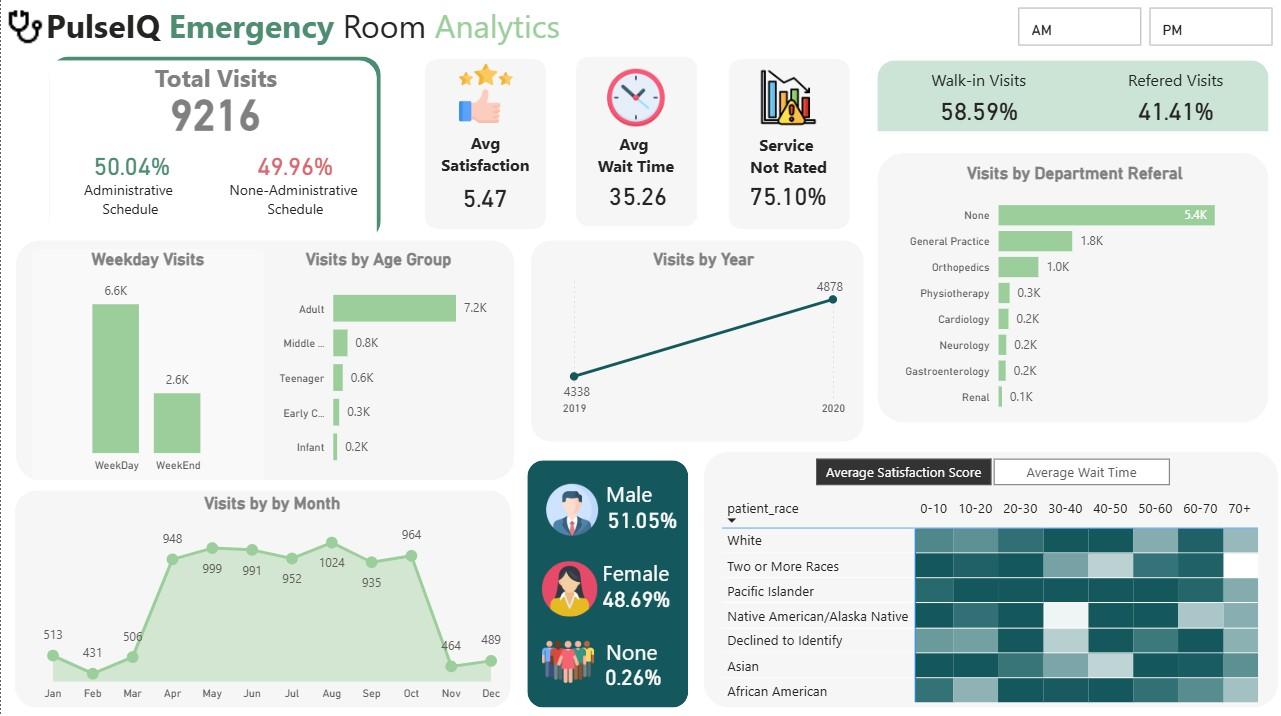

The page's visual inventory and layout, read from the dashboard file:
{"tool":"powerbi","page":{"name":"Page 1","canvas":[1280,720],"ordinal":0},"visuals":[{"type":"shape","box":[48.8,57.5,331,183],"z":0},{"type":"shape","box":[13.8,491.2,496.2,217.5],"z":1000},{"type":"shape","box":[15,241.2,498.8,240],"z":2000},{"type":"shape","title":"xzcz","box":[530,241.4,332.9,201.4],"z":3000},{"type":"shape","box":[875.7,154.3,391.4,270],"z":4000},{"type":"shape","box":[575,57.5,121.4,170],"z":5000,"group":"g3"},{"type":"shape","box":[423.8,60,121.4,170],"z":5000,"group":"g1"},{"type":"shape","box":[727.7,60,121.4,170],"z":5000,"group":"g2"},{"type":"shape","box":[702.5,452.5,575,256.2],"z":5000},{"type":"shape","box":[526.2,461.2,161.1,247.5],"z":5000,"group":"g7"},{"type":"shape","box":[875.7,61.4,391.4,71.4],"z":6000},{"type":"pivotTable","fields":{"Values":["DAX operations.Average Satisfaction Score"],"Rows":["Hospitaldata.patient_race"],"Columns":["Hospitaldata.age group "]},"box":[716.2,491.2,561.2,217.5],"z":7000},{"type":"slicer","fields":{"Values":["Parameter.Parameter"]},"box":[788.8,452.5,403.8,38.8],"z":8000},{"type":"columnChart","title":"Weekday Visits","fields":{"Y":["CountNonNull(Hospitaldata.patient_id)"],"Category":["date.Weekstatus"]},"box":[31.2,250,231.2,231.2],"z":9000},{"type":"cardVisual","fields":{"Data":["DAX operations.Average Satisfaction Score"]},"box":[425.4,161.2,117.5,53.8],"z":10000,"group":"g1"},{"type":"cardVisual","fields":{"Data":["DAX operations.Average Wait Time"]},"box":[576.2,163.1,121.2,57.5],"z":10000,"group":"g3"},{"type":"cardVisual","fields":{"Data":["DAX operations.Average Non Rated"]},"box":[726,163.8,121.2,55],"z":10000,"group":"g2"},{"type":"clusteredBarChart","title":"Visits by Age Group","fields":{"Category":["Hospitaldata.age_status"],"Y":["CountNonNull(Hospitaldata.patient_id)"]},"box":[262.5,250,230,231.2],"z":10000},{"type":"lineChart","fields":{"Category":["date.MonthName"],"Y":["CountNonNull(Hospitaldata.patient_id)"]},"box":[31.2,493.8,480,215],"z":11000},{"type":"lineChart","fields":{"Category":["date.Year"],"Y":["CountNonNull(Hospitaldata.patient_id)"]},"box":[555.7,250,292.9,174.3],"z":12000},{"type":"clusteredBarChart","title":"Visits by Department Referal","fields":{"Y":["CountNonNull(Hospitaldata.patient_id)"],"Category":["Hospitaldata.department_referral"]},"box":[898.8,163.8,350,260],"z":13000},{"type":"cardVisual","fields":{"Data":["DAX operations.Walkin Patientss","DAX operations.Refered Patients"]},"box":[875.7,52.9,401.4,78.6],"z":14000},{"type":"advancedSlicerVisual","fields":{"Values":["Hospitaldata.AMPMstatus"]},"box":[1012.5,3.8,265,48.8],"z":15000},{"type":"shape","box":[48.6,61.4,327.1,180],"z":16000},{"type":"cardVisual","fields":{"Data":["DAX operations.Administrative Schedule"]},"box":[48.8,132.5,163.8,63.8],"z":17000},{"type":"cardVisual","fields":{"Data":["DAX operations.Unadministrative schedule"]},"box":[212.5,132.5,163.8,61.2],"z":18000},{"type":"textbox","box":[40,0,600,52.5],"z":19000},{"type":"image","box":[0,2.5,48.8,50],"z":20000},{"type":"group","id":"g1","title":"Group 5","box":[423.8,60,121.2,170],"z":21000},{"type":"cardVisual","fields":{"Data":["DAX operations.Male"]},"box":[587.6,492,107.4,50.2],"z":21000,"group":"g8"},{"type":"cardVisual","fields":{"Data":["DAX operations.Female"]},"box":[578.4,570.1,113.6,52.3],"z":21000,"group":"g5"},{"type":"group","id":"g2","title":"Group 5","box":[726,60,123.2,170],"z":22000},{"type":"cardVisual","fields":{"Data":["DAX operations.None"]},"box":[570.9,648.4,122.4,51.7],"z":22000,"group":"g6"},{"type":"group","id":"g3","title":"Group 5","box":[575,57.5,122.5,170],"z":23000},{"type":"group","id":"g4","title":"Group 2","box":[538.7,474.4,156.3,67.9],"z":23000,"group":"g7"},{"type":"image","box":[745,65,85,67.5],"z":24000},{"type":"group","id":"g5","title":"Group 3","box":[535.9,554.2,156.1,68.2],"z":24000,"group":"g7"},{"type":"image","box":[592.5,65,85,67.5],"z":25000},{"type":"group","id":"g6","title":"Group 4","box":[535.9,631.9,157.4,68.2],"z":25000,"group":"g7"},{"type":"group","id":"g7","title":"Group 6","box":[526.2,461.2,168.8,247.5],"z":26000},{"type":"cardVisual","fields":{"Data":["DAX operations.Total Patients"]},"box":[88.8,52.5,251.2,118.8],"z":27000},{"type":"textbox","box":[141.2,57.5,147.5,55],"z":28000},{"type":"textbox","box":[71.2,176.2,112.5,53.8],"z":29000},{"type":"textbox","box":[213.8,176.2,157.5,53.8],"z":30000},{"type":"image","box":[442.9,60,85,68.8],"z":32000,"group":"g1"},{"type":"image","box":[535.9,557.6,64.9,64.7],"z":34000,"group":"g5"},{"type":"textbox","box":[425.4,127.5,118.8,66.2],"z":34001,"group":"g1"},{"type":"textbox","box":[582.2,128.1,105,67.5],"z":34001,"group":"g3"},{"type":"textbox","box":[735,130,105,63.8],"z":34001,"group":"g2"},{"type":"image","box":[538.7,479.9,64.9,62.2],"z":35000,"group":"g4"},{"type":"image","box":[535.9,635.4,61.9,62.5],"z":35000,"group":"g6"},{"type":"textbox","box":[595.8,554.2,86.2,41.1],"z":36000,"group":"g5"},{"type":"textbox","box":[599.6,631.9,81.2,39.1],"z":37000,"group":"g6"},{"type":"textbox","box":[600.7,474.4,86.2,39.5],"z":38000,"group":"g8"},{"type":"group","id":"g8","title":"Group 1","box":[587.6,474.4,107.4,67.9],"z":39002,"group":"g4"}]}

Visuals, with their boxes in screenshot pixels (x1, y1, x2, y2), scaled from the page's 1280x720 canvas onto the 1281x716 screenshot:
shape: select_region(49, 57, 380, 239)
shape: select_region(14, 488, 510, 705)
shape: select_region(15, 240, 514, 479)
"xzcz" shape: select_region(530, 240, 864, 440)
shape: select_region(876, 153, 1268, 422)
shape: select_region(575, 57, 697, 226)
shape: select_region(424, 60, 546, 229)
shape: select_region(728, 60, 850, 229)
shape: select_region(703, 450, 1278, 705)
shape: select_region(527, 459, 688, 705)
shape: select_region(876, 61, 1268, 132)
pivotTable - DAX operations.Average Satisfaction Score x Hospitaldata.patient_race: select_region(717, 488, 1278, 705)
slicer - Parameter.Parameter: select_region(789, 450, 1194, 489)
"Weekday Visits" columnChart: select_region(31, 249, 263, 479)
cardVisual - DAX operations.Average Satisfaction Score: select_region(426, 160, 543, 214)
cardVisual - DAX operations.Average Wait Time: select_region(577, 162, 698, 219)
cardVisual - DAX operations.Average Non Rated: select_region(727, 163, 848, 218)
"Visits by Age Group" clusteredBarChart: select_region(263, 249, 493, 479)
lineChart - date.MonthName x CountNonNull(Hospitaldata.patient_id): select_region(31, 491, 512, 705)
lineChart - date.Year x CountNonNull(Hospitaldata.patient_id): select_region(556, 249, 849, 422)
"Visits by Department Referal" clusteredBarChart: select_region(900, 163, 1250, 421)
cardVisual - DAX operations.Walkin Patientss x DAX operations.Refered Patients: select_region(876, 53, 1278, 131)
advancedSlicerVisual - Hospitaldata.AMPMstatus: select_region(1013, 4, 1278, 52)
shape: select_region(49, 61, 376, 240)
cardVisual - DAX operations.Administrative Schedule: select_region(49, 132, 213, 195)
cardVisual - DAX operations.Unadministrative schedule: select_region(213, 132, 377, 193)
textbox: select_region(40, 0, 640, 52)
image: select_region(0, 2, 49, 52)
"Group 5" group: select_region(424, 60, 545, 229)
cardVisual - DAX operations.Male: select_region(588, 489, 696, 539)
cardVisual - DAX operations.Female: select_region(579, 567, 693, 619)
"Group 5" group: select_region(727, 60, 850, 229)
cardVisual - DAX operations.None: select_region(571, 645, 694, 696)
"Group 5" group: select_region(575, 57, 698, 226)
"Group 2" group: select_region(539, 472, 696, 539)
image: select_region(746, 65, 831, 132)
"Group 3" group: select_region(536, 551, 693, 619)
image: select_region(593, 65, 678, 132)
"Group 4" group: select_region(536, 628, 694, 696)
"Group 6" group: select_region(527, 459, 696, 705)
cardVisual - DAX operations.Total Patients: select_region(89, 52, 340, 170)
textbox: select_region(141, 57, 289, 112)
textbox: select_region(71, 175, 184, 229)
textbox: select_region(214, 175, 372, 229)
image: select_region(443, 60, 528, 128)
image: select_region(536, 555, 601, 619)
textbox: select_region(426, 127, 545, 193)
textbox: select_region(583, 127, 688, 195)
textbox: select_region(736, 129, 841, 193)
image: select_region(539, 477, 604, 539)
image: select_region(536, 632, 598, 694)
textbox: select_region(596, 551, 683, 592)
textbox: select_region(600, 628, 681, 667)
textbox: select_region(601, 472, 687, 511)
"Group 1" group: select_region(588, 472, 696, 539)
